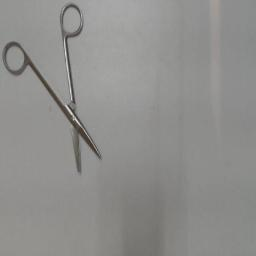Curved Mayo Scissors: (0, 1, 106, 179)
